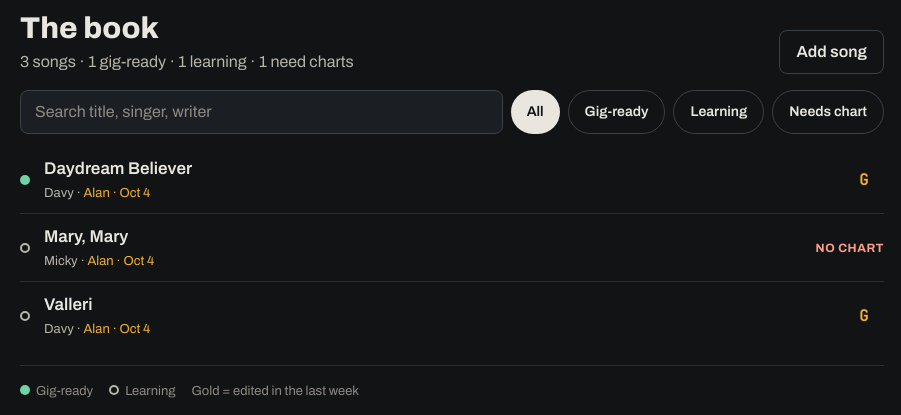
SongLibrary › filters by search text across title and singer
In the search field named "Search songs": (261, 112) [20,90,503,134], type "davy"
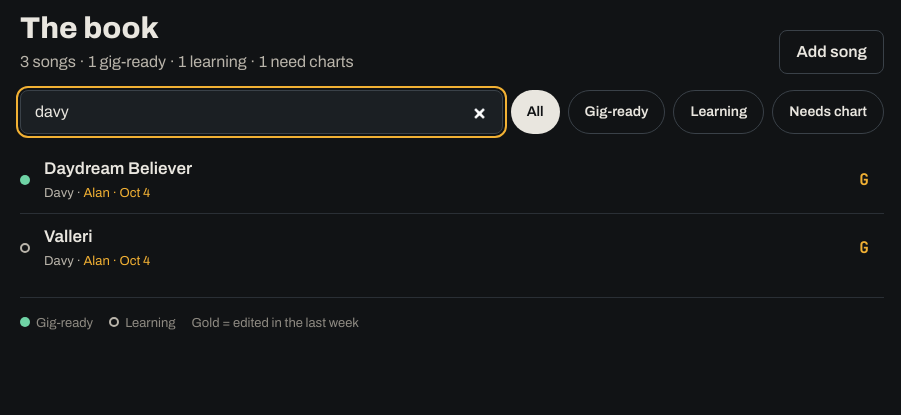
Expected: the text "Daydream Believer" is shown, [44,158,278,178]
Expected: the link "Mary, Mary" is gone
